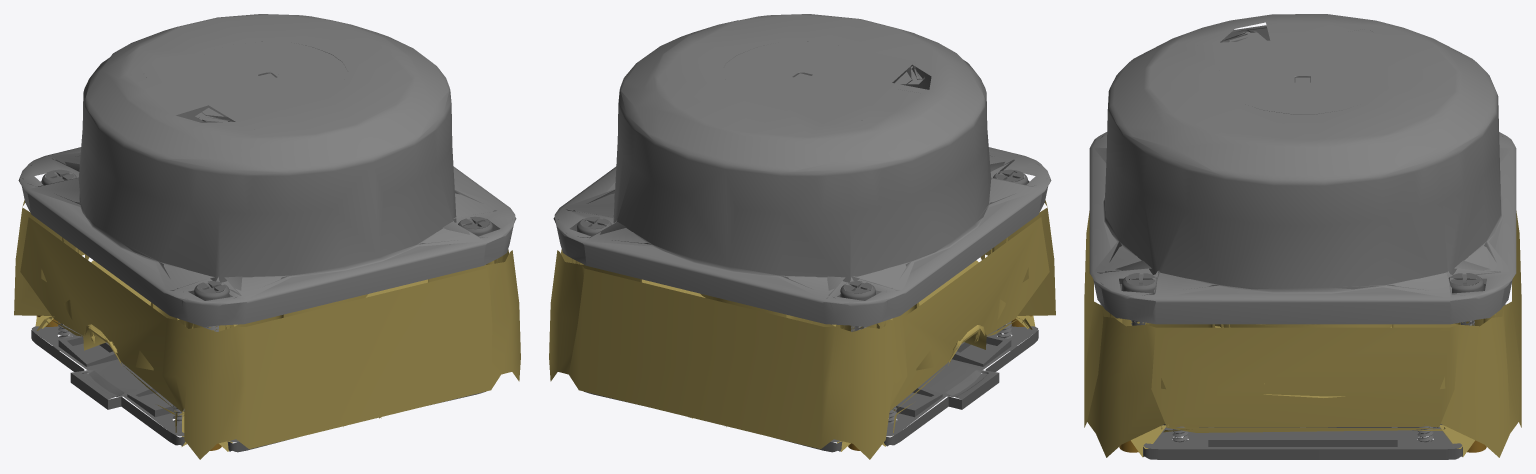
Rendered from rplidar_lite.glb.
The picture shows the model from 3 angles, left to right: view 1: azimuth 30°, elevation 25°; view 2: azimuth 150°, elevation 25°; view 3: azimuth 270°, elevation 25°; orthographic projection. The views are drawn at different scales.
Parts seen in each view (by area): view 1: C1M1 optical enclosure, C1M1 base housing, C1M1 bottom PCB, C1M1 hardware 00; view 2: C1M1 optical enclosure, C1M1 base housing, C1M1 bottom PCB, C1M1 hardware 19; view 3: C1M1 optical enclosure, C1M1 base housing, C1M1 bottom PCB, C1M1 hardware 05, C1M1 hardware 01.
Part boxes in pixels (box(x1,y1,x2,y2)): C1M1 optical enclosure: box(18, 14, 516, 326); C1M1 base housing: box(14, 200, 520, 459); C1M1 bottom PCB: box(31, 326, 485, 452); C1M1 hardware 00: box(194, 281, 229, 331); C1M1 optical enclosure: box(553, 14, 1051, 326); C1M1 base housing: box(549, 200, 1055, 459); C1M1 bottom PCB: box(584, 324, 1038, 452); C1M1 hardware 19: box(840, 281, 875, 331); C1M1 optical enclosure: box(1089, 14, 1516, 324); C1M1 base housing: box(1084, 211, 1521, 457); C1M1 bottom PCB: box(1100, 304, 1505, 459); C1M1 hardware 05: box(1122, 273, 1157, 325); C1M1 hardware 01: box(1448, 273, 1483, 325).
Size of the model in its own units: 0.0552 by 0.0413 by 0.0554.
